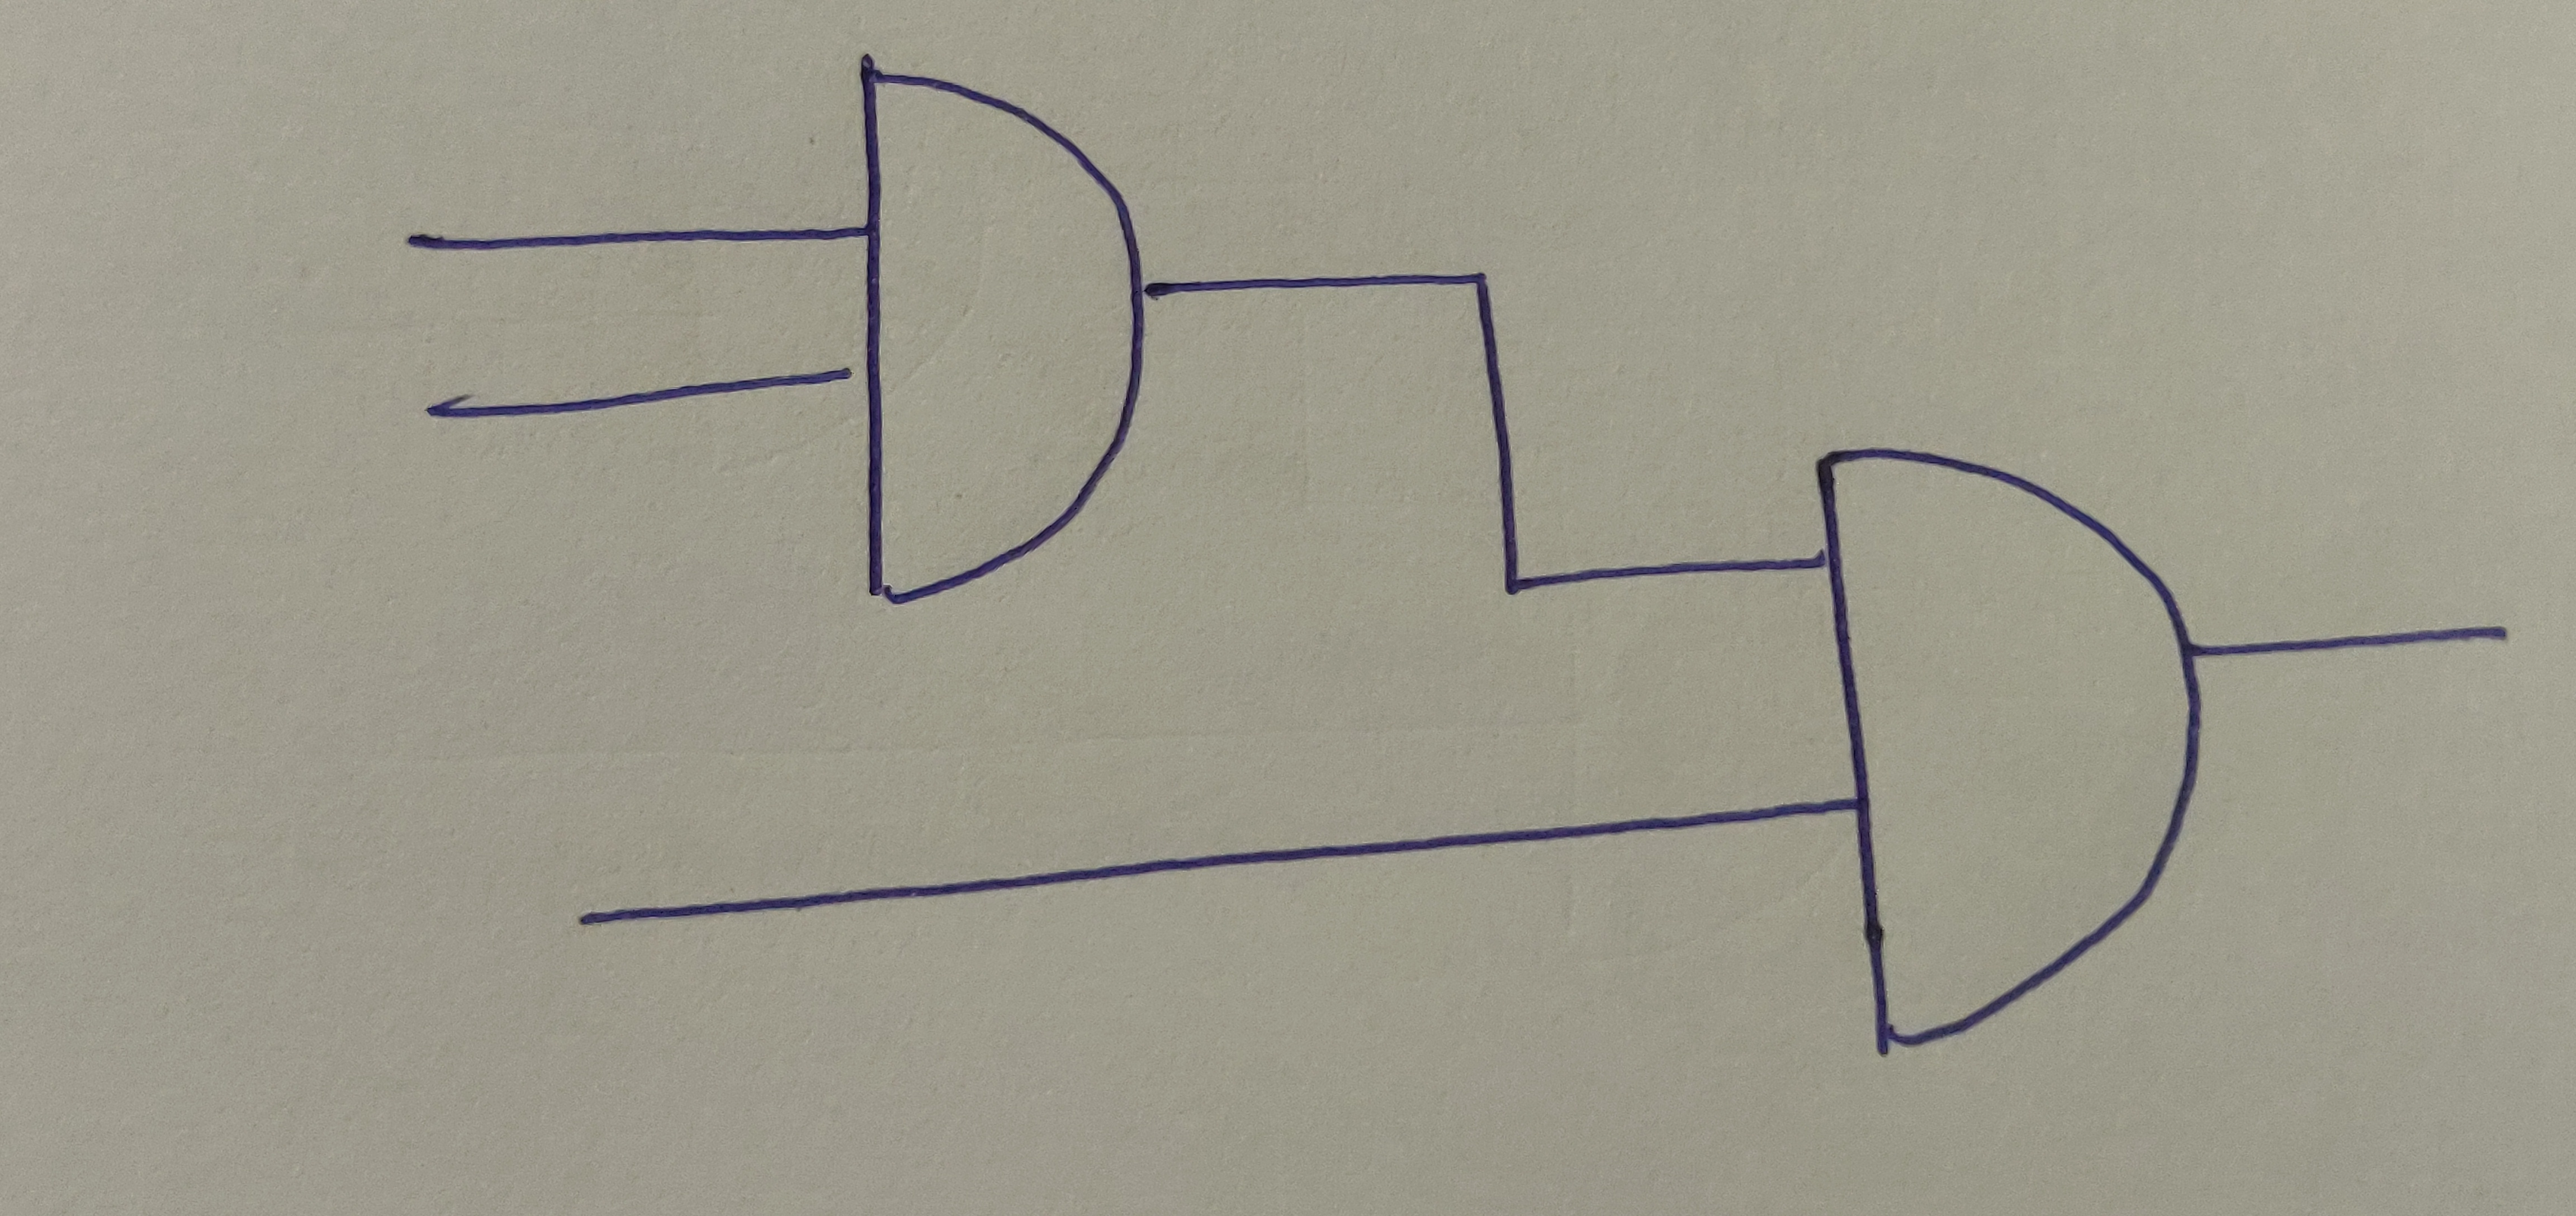and: (1810, 445, 2206, 1043), (861, 59, 1147, 603)
